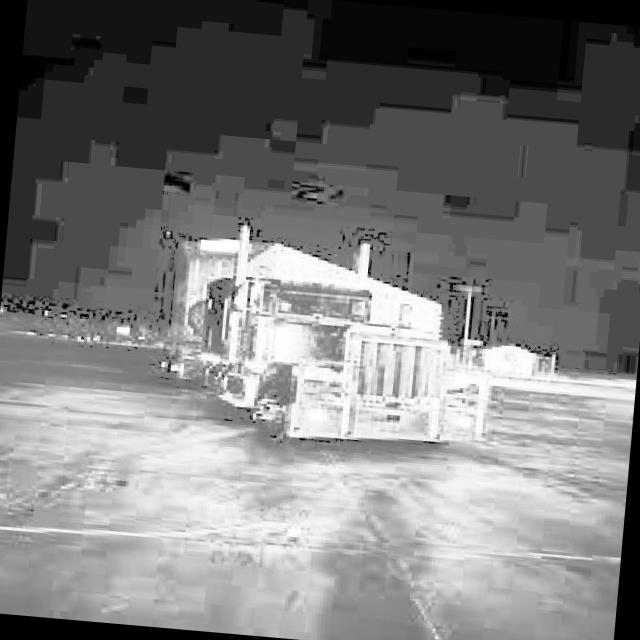Truck: (143, 218, 504, 461)
